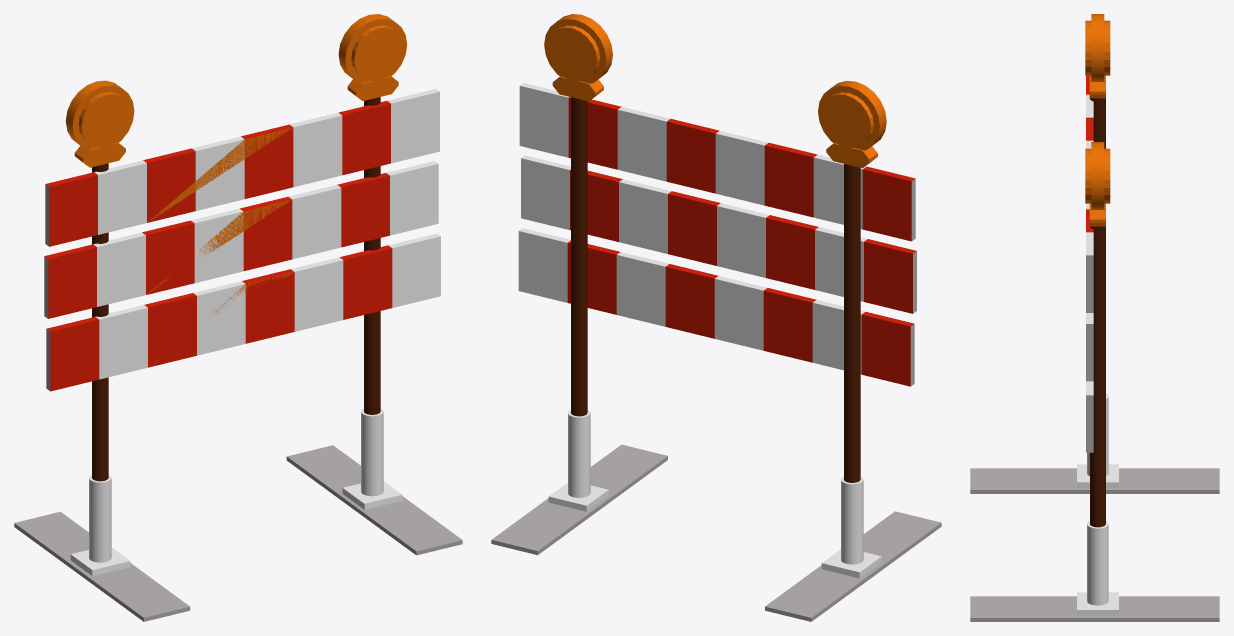
The model's file is barrier3.fbx.
3 renders of one model, left to right at view 1: azimuth 30°, elevation 25°; view 2: azimuth 150°, elevation 25°; view 3: azimuth 270°, elevation 25°, orthographic. The views are drawn at different scales.
Visible parts, largest first — view 1: Road Thing; view 2: Road Thing; view 3: Road Thing.
Boxes of the visible parts, x1,y1,x2,y2 form: Road Thing: [14, 14, 462, 621]; Road Thing: [491, 14, 941, 621]; Road Thing: [970, 14, 1219, 621].
Bounding box in the file's own units: 330 × 388 × 189.
